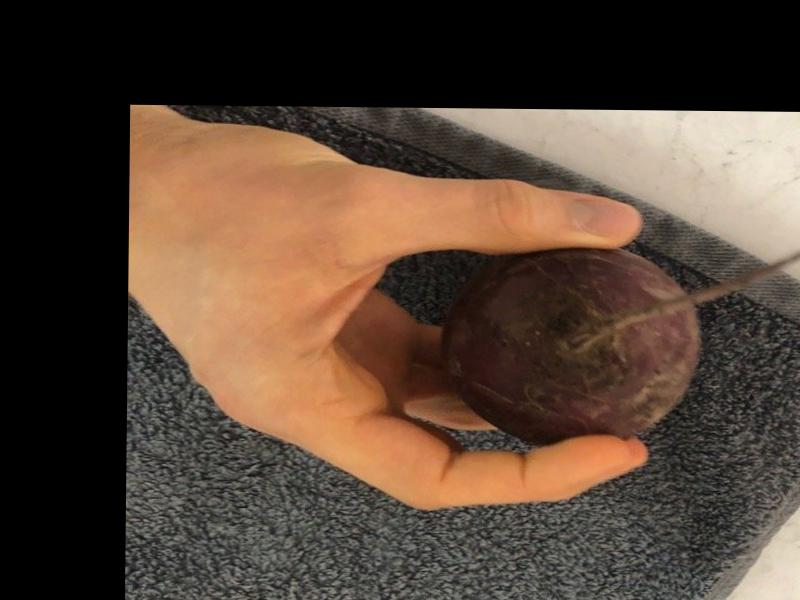Beet: (442, 245, 800, 448)
